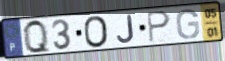3: (51, 18, 74, 52)
G: (175, 8, 201, 41)
J: (115, 14, 136, 44)
O: (82, 15, 110, 49)
P: (146, 10, 173, 44)
Q: (21, 18, 52, 55)
